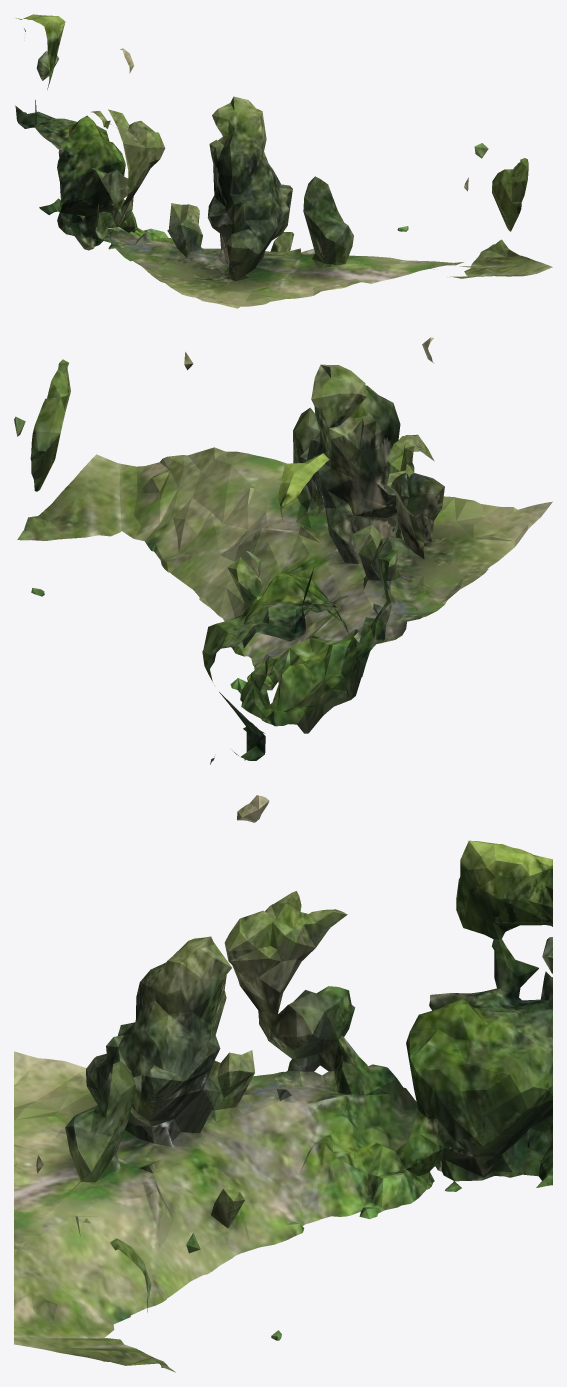
The picture shows the model from 3 angles, top to bottom: view 1: azimuth 30°, elevation 25°; view 2: azimuth 150°, elevation 25°; view 3: azimuth 270°, elevation 25°; orthographic projection. The views are drawn at different scales.
Size of the model in its own units: 26.11 by 18.74 by 26.11.
Materials: 3 (3 with a texture image).
